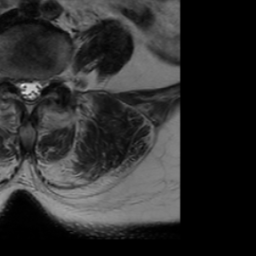CCS_normal: (25, 68, 34, 113)
LFS_normal: (43, 63, 54, 94)
LLS_normal: (34, 68, 43, 106)
RFS_stenosis: (6, 65, 16, 92)
RLS_normal: (16, 68, 25, 106)
